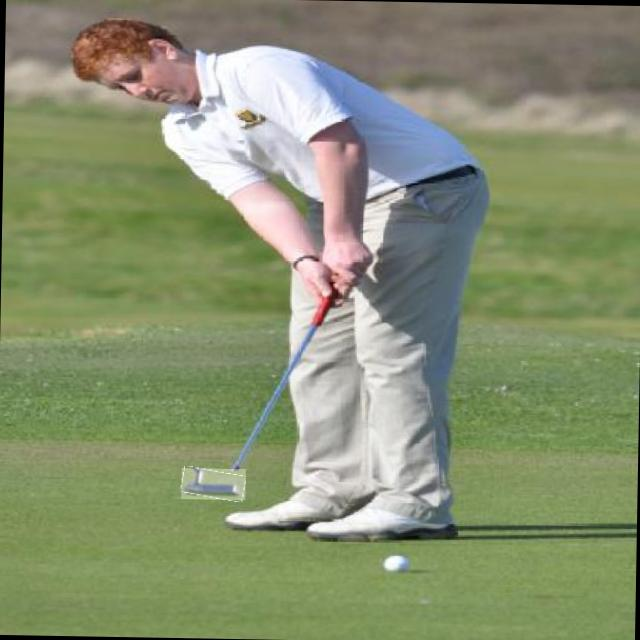club head: (181, 468, 245, 500)
